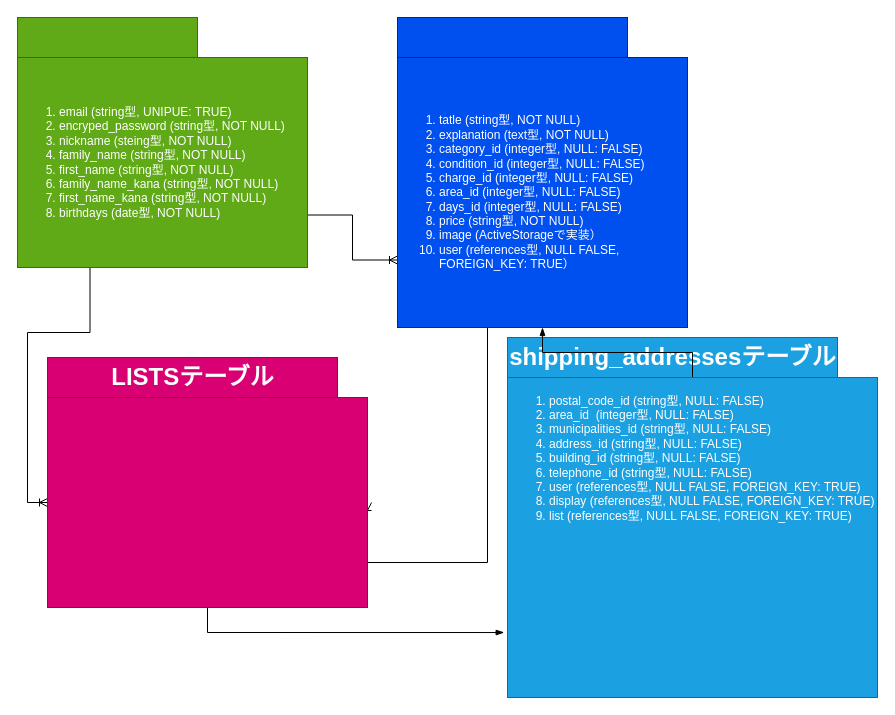
This 895x715 diagram has some shape labels left out. Each missing label, with the centre of its shape:
"displayテーブル" belongs at pixel 512 37.
"user (references型） display (references型）" belongs at pixel 207 502.
"userテーブル" belongs at pixel 107 37.
